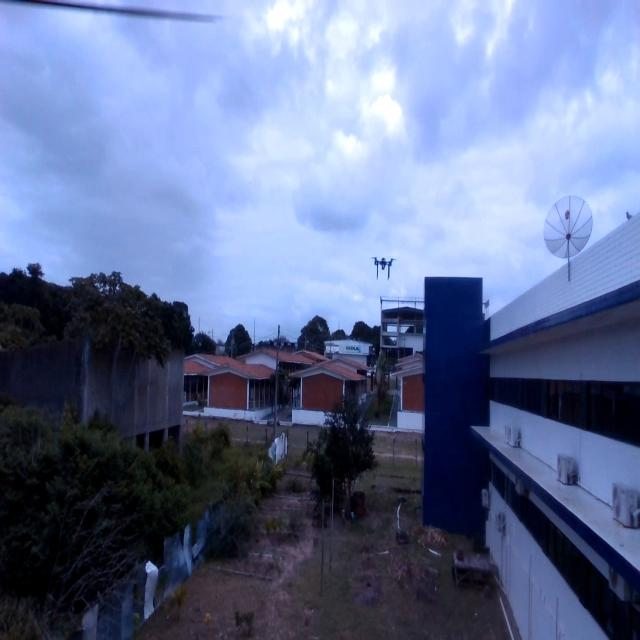-uav-: (366, 248, 402, 288)
